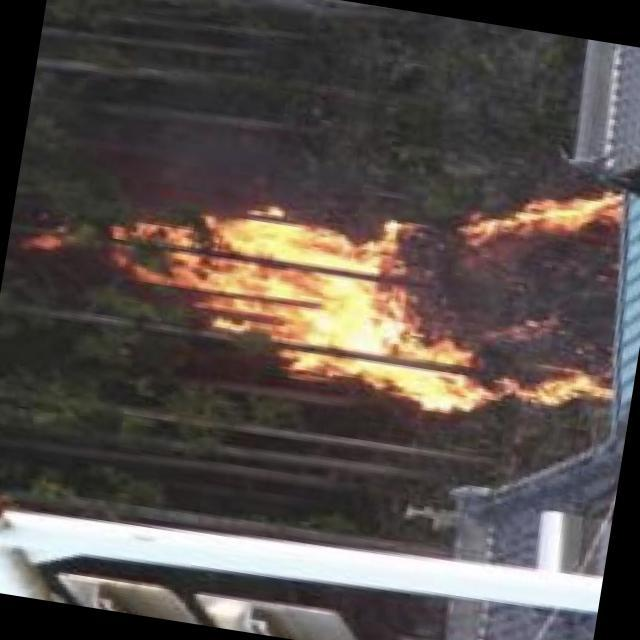Fire: (103, 125, 635, 433)
